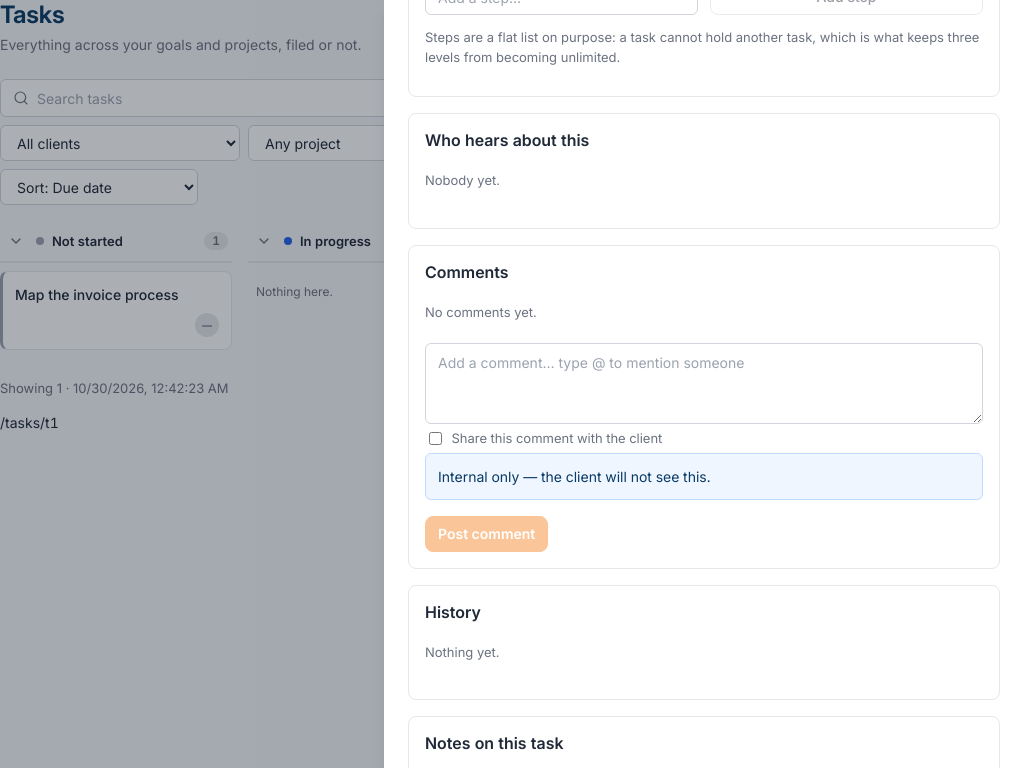
Test case: the task sheet: what closes it and what does not › keeps the sheet open on a comment and says it was posted
(page scrolled)
Step 1. Type "Called their AP lead." into the text box labelled "Add a comment" → x=704, y=384, box [425, 343, 983, 424]
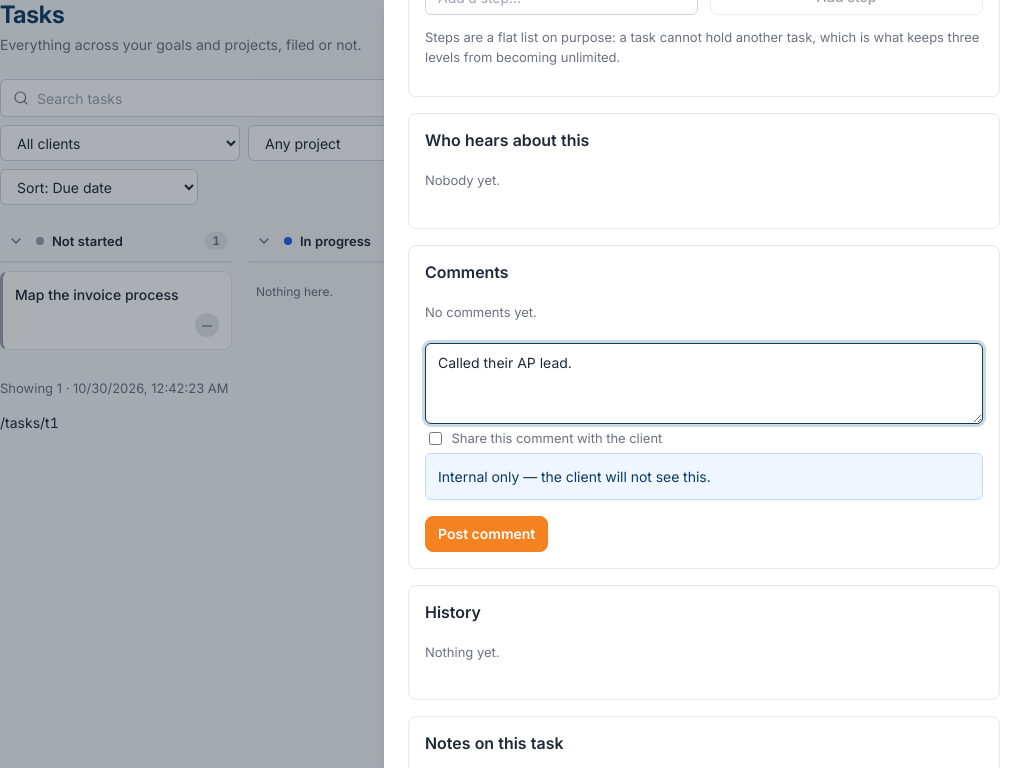
Step 2. Click the button "Post comment" → x=487, y=534, box [425, 516, 548, 552]
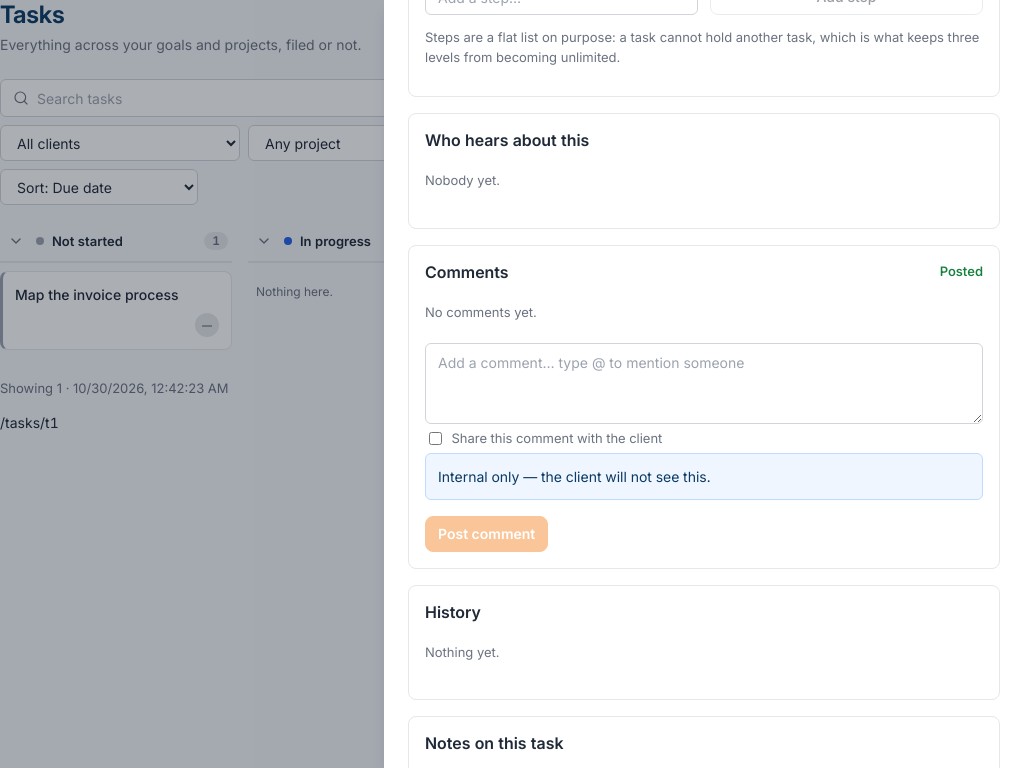
Result: the text "Posted" is shown at [940, 262, 983, 281]
